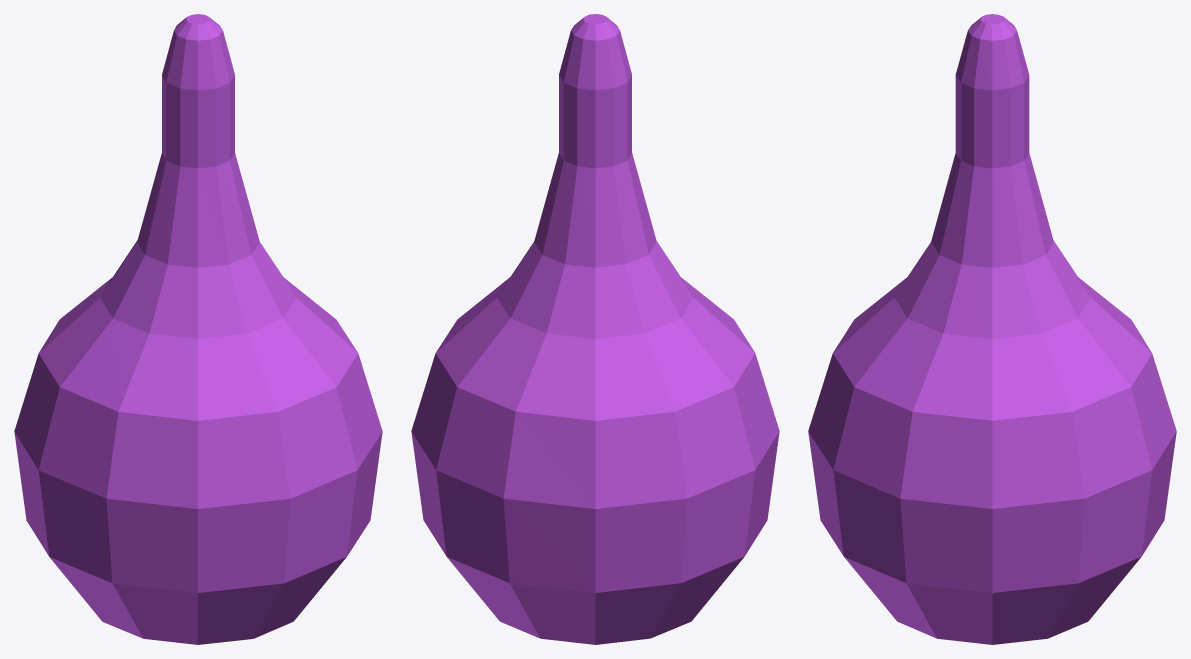
File: pikmin.FBX
3 views of the same model, side by side, from view 1: azimuth 30°, elevation 25°; view 2: azimuth 150°, elevation 25°; view 3: azimuth 270°, elevation 25° (orthographic).
Visible parts, largest first — view 1: VIFS001; view 2: VIFS001; view 3: VIFS001.
Boxes of the visible parts, <box> form: VIFS001: <box>14,14,382,644</box>; VIFS001: <box>411,14,779,644</box>; VIFS001: <box>808,14,1176,644</box>.
Size of the model in its own units: 0.6 by 1.1 by 0.6.
